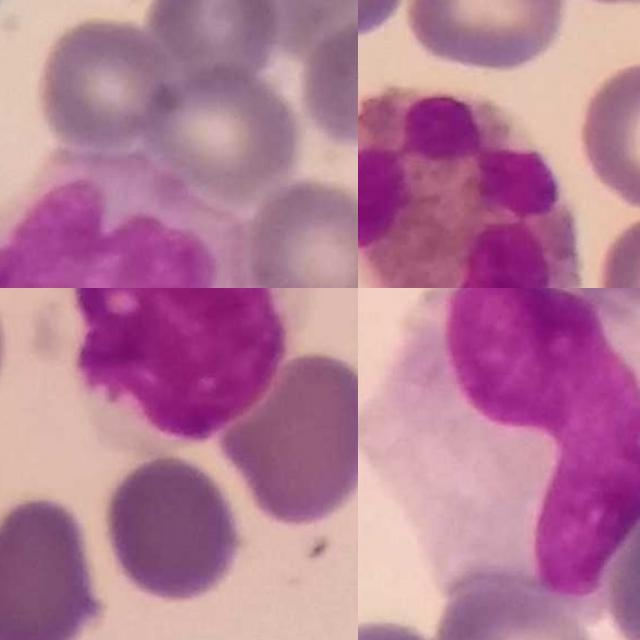Eosinophil: (358, 85, 589, 288)
Lymphocyte: (49, 288, 285, 448)
Monocyte: (358, 288, 640, 611), (0, 147, 262, 288)
